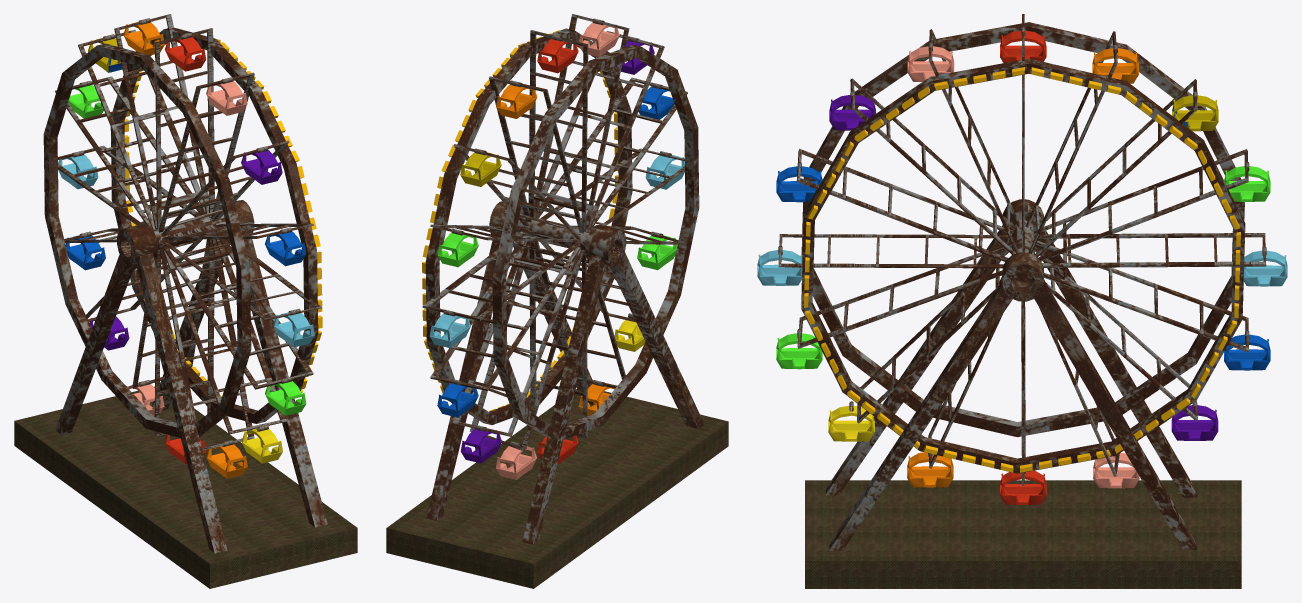
File: VueltaAlMundo.fbx
3 renders of one model, left to right at view 1: azimuth 30°, elevation 25°; view 2: azimuth 150°, elevation 25°; view 3: azimuth 270°, elevation 25°, orthographic. The views are drawn at different scales.
Parts seen in each view (by area): view 1: Vuelta al mundo; view 2: Vuelta al mundo; view 3: Vuelta al mundo.
Boxes of the visible parts, x1=… form: Vuelta al mundo: x1=14, y1=14, x2=357, y2=588; Vuelta al mundo: x1=386, y1=14, x2=728, y2=588; Vuelta al mundo: x1=757, y1=14, x2=1287, y2=588.
Size of the model in its own units: 397 by 1194 by 1105.
Materials: 8 (7 with a texture image).
